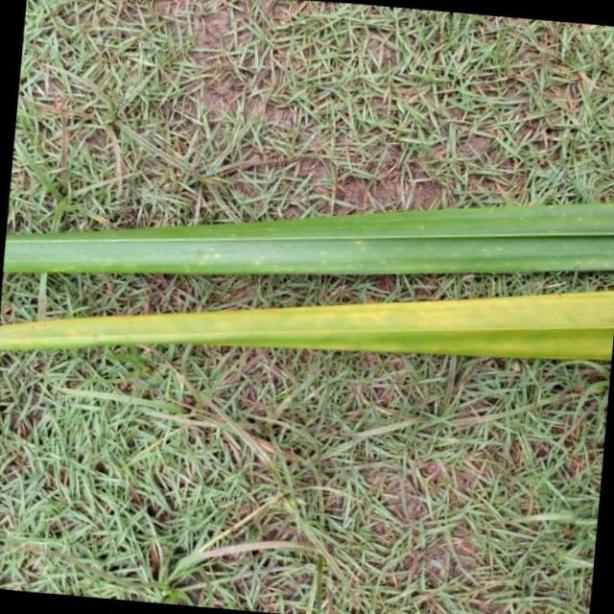nitrogen: (0, 190, 614, 272), (0, 286, 614, 362)
